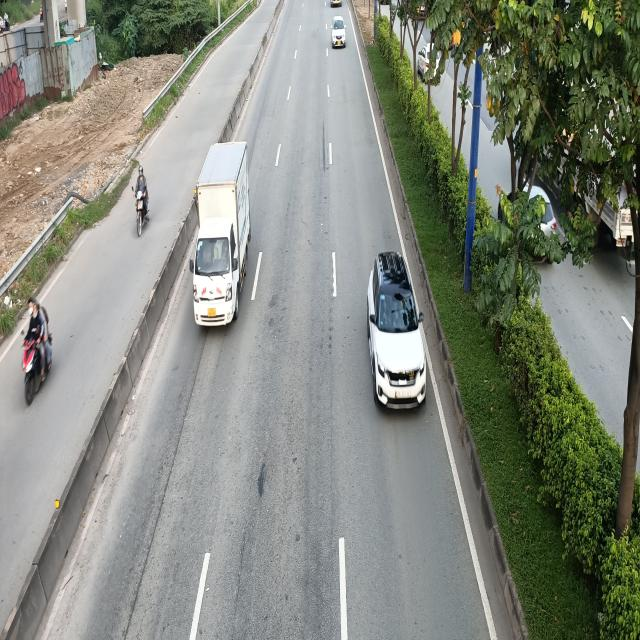car: (365, 252, 425, 411), (332, 17, 348, 49)
truck: (188, 140, 251, 328)
